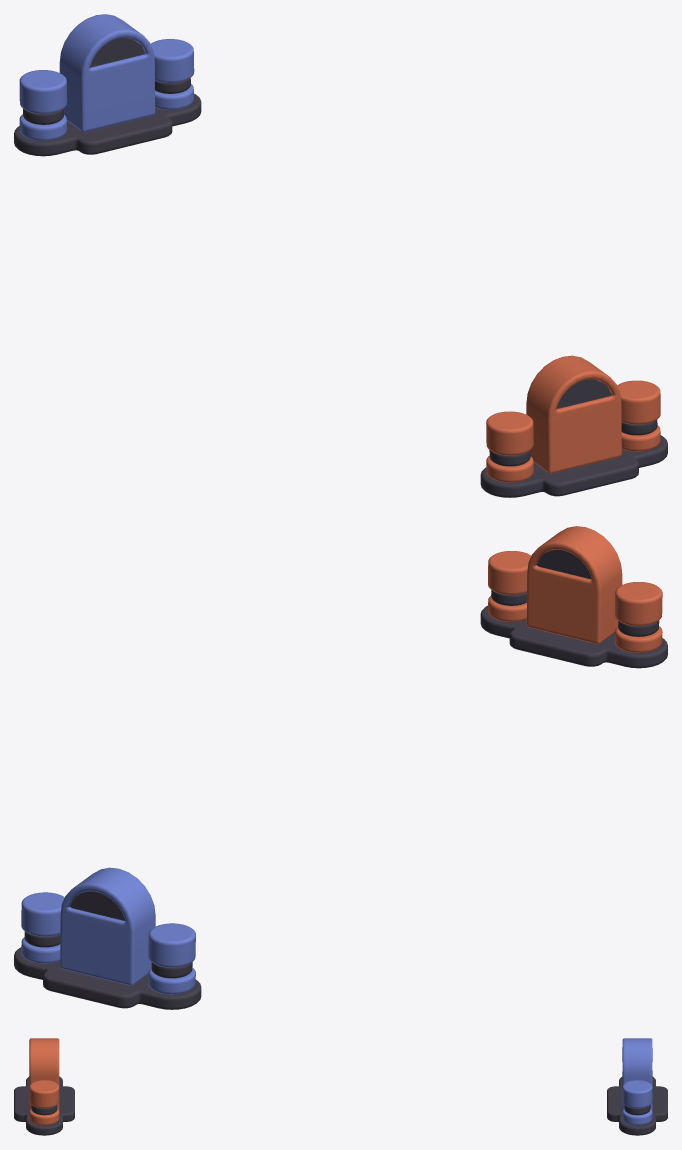
The model's file is bases.fbx.
The picture shows the model from 3 angles, top to bottom: view 1: azimuth 30°, elevation 25°; view 2: azimuth 150°, elevation 25°; view 3: azimuth 270°, elevation 25°; orthographic projection. The views are drawn at different scales.
Visible parts, largest first — view 1: Cube, Cube.001; view 2: Cube.001, Cube; view 3: Cube, Cube.001.
Part boxes in pixels (bbox=[...]): Cube: bbox=[480, 355, 667, 497]; Cube.001: bbox=[14, 14, 201, 156]; Cube.001: bbox=[14, 867, 201, 1009]; Cube: bbox=[480, 526, 667, 668]; Cube: bbox=[14, 1038, 74, 1135]; Cube.001: bbox=[607, 1038, 667, 1135].
Bounding box in the file's own units: 1025 × 579 × 5094.
